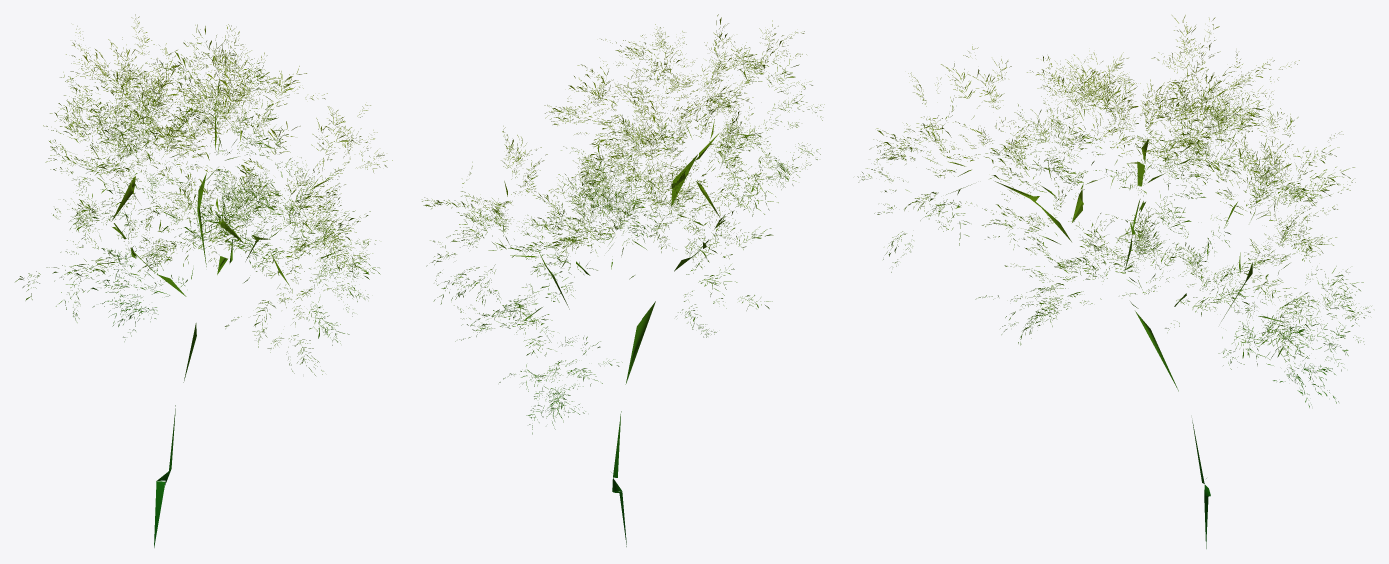
The model's file is tree_small_02_0.glb.
The picture shows the model from 3 angles, left to right: view 1: azimuth 30°, elevation 25°; view 2: azimuth 150°, elevation 25°; view 3: azimuth 270°, elevation 25°; orthographic projection. The views are drawn at different scales.
Parts seen in each view (by area): view 1: tree_small_02_LOD0; view 2: tree_small_02_LOD0; view 3: tree_small_02_LOD0.
Part boxes in pixels (bbox=[...]): tree_small_02_LOD0: bbox=[15, 14, 392, 547]; tree_small_02_LOD0: bbox=[422, 14, 824, 546]; tree_small_02_LOD0: bbox=[857, 15, 1371, 548].
Bounding box in the file's own units: 2.87 × 4.5 × 4.27.
